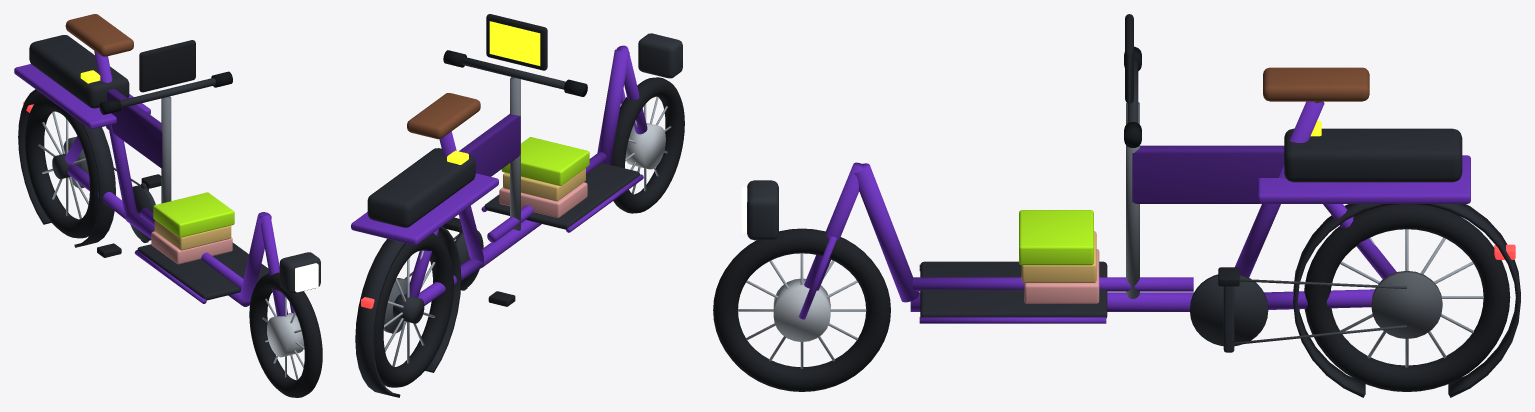
File: long_john.glb
3 renders of one model, left to right at view 1: azimuth 30°, elevation 25°; view 2: azimuth 150°, elevation 25°; view 3: azimuth 270°, elevation 25°, orthographic. The views are drawn at different scales.
Parts seen in each view (by area): view 1: front_wheel_daek, rear_wheel_daek, batteri, bagskaerm, platform, bog2, tablet, plade, baerer, sadel, saederoer, front_wheel_motor (+16 smaller); view 2: rear_wheel_daek, batteri, front_wheel_daek, bagskaerm, baerer, bog2, platform, plade, sadel, tablet_skaerm, lygte, styrehoved (+18 smaller); view 3: rear_wheel_daek, front_wheel_daek, batteri, plade, platform, bagskaerm, baerer, bog2, kassette, klinge, sadel, hovedbjaelke2 (+14 smaller).
Part boxes in pixels (x1,y1,x2,y2): front_wheel_daek: (249, 272, 322, 397); rear_wheel_daek: (25, 95, 98, 238); batteri: (29, 35, 129, 108); bagskaerm: (18, 89, 115, 247); platform: (137, 242, 269, 300); bog2: (153, 192, 234, 237); tablet: (139, 40, 195, 92); plade: (106, 89, 162, 168); baerer: (14, 64, 150, 129); sadel: (65, 14, 133, 56); saederoer: (94, 51, 136, 216); front_wheel_motor: (267, 313, 304, 357); rear_wheel_daek: (374, 233, 453, 387); batteri: (367, 148, 475, 227); front_wheel_daek: (610, 77, 684, 213); bagskaerm: (355, 226, 461, 397); baerer: (351, 173, 498, 245); bog2: (501, 137, 589, 185); platform: (484, 163, 639, 229); plade: (459, 113, 520, 176); sadel: (407, 93, 480, 139); tablet_skaerm: (489, 21, 540, 65); lygte: (638, 33, 682, 78); styrehoved: (597, 49, 629, 164); rear_wheel_daek: (1304, 204, 1510, 391); front_wheel_daek: (713, 228, 890, 391); batteri: (1284, 128, 1462, 182); plade: (1132, 145, 1284, 203); platform: (920, 261, 1107, 318); bagskaerm: (1293, 204, 1520, 397); baerer: (1257, 155, 1470, 203); bog2: (1019, 210, 1093, 265); kassette: (1371, 271, 1442, 338); klinge: (1190, 274, 1268, 346); sadel: (1263, 67, 1369, 101); hovedbjaelke2: (912, 277, 1193, 291).
Bounding box in the file's own units: 1.14 × 2.24 × 4.54.
